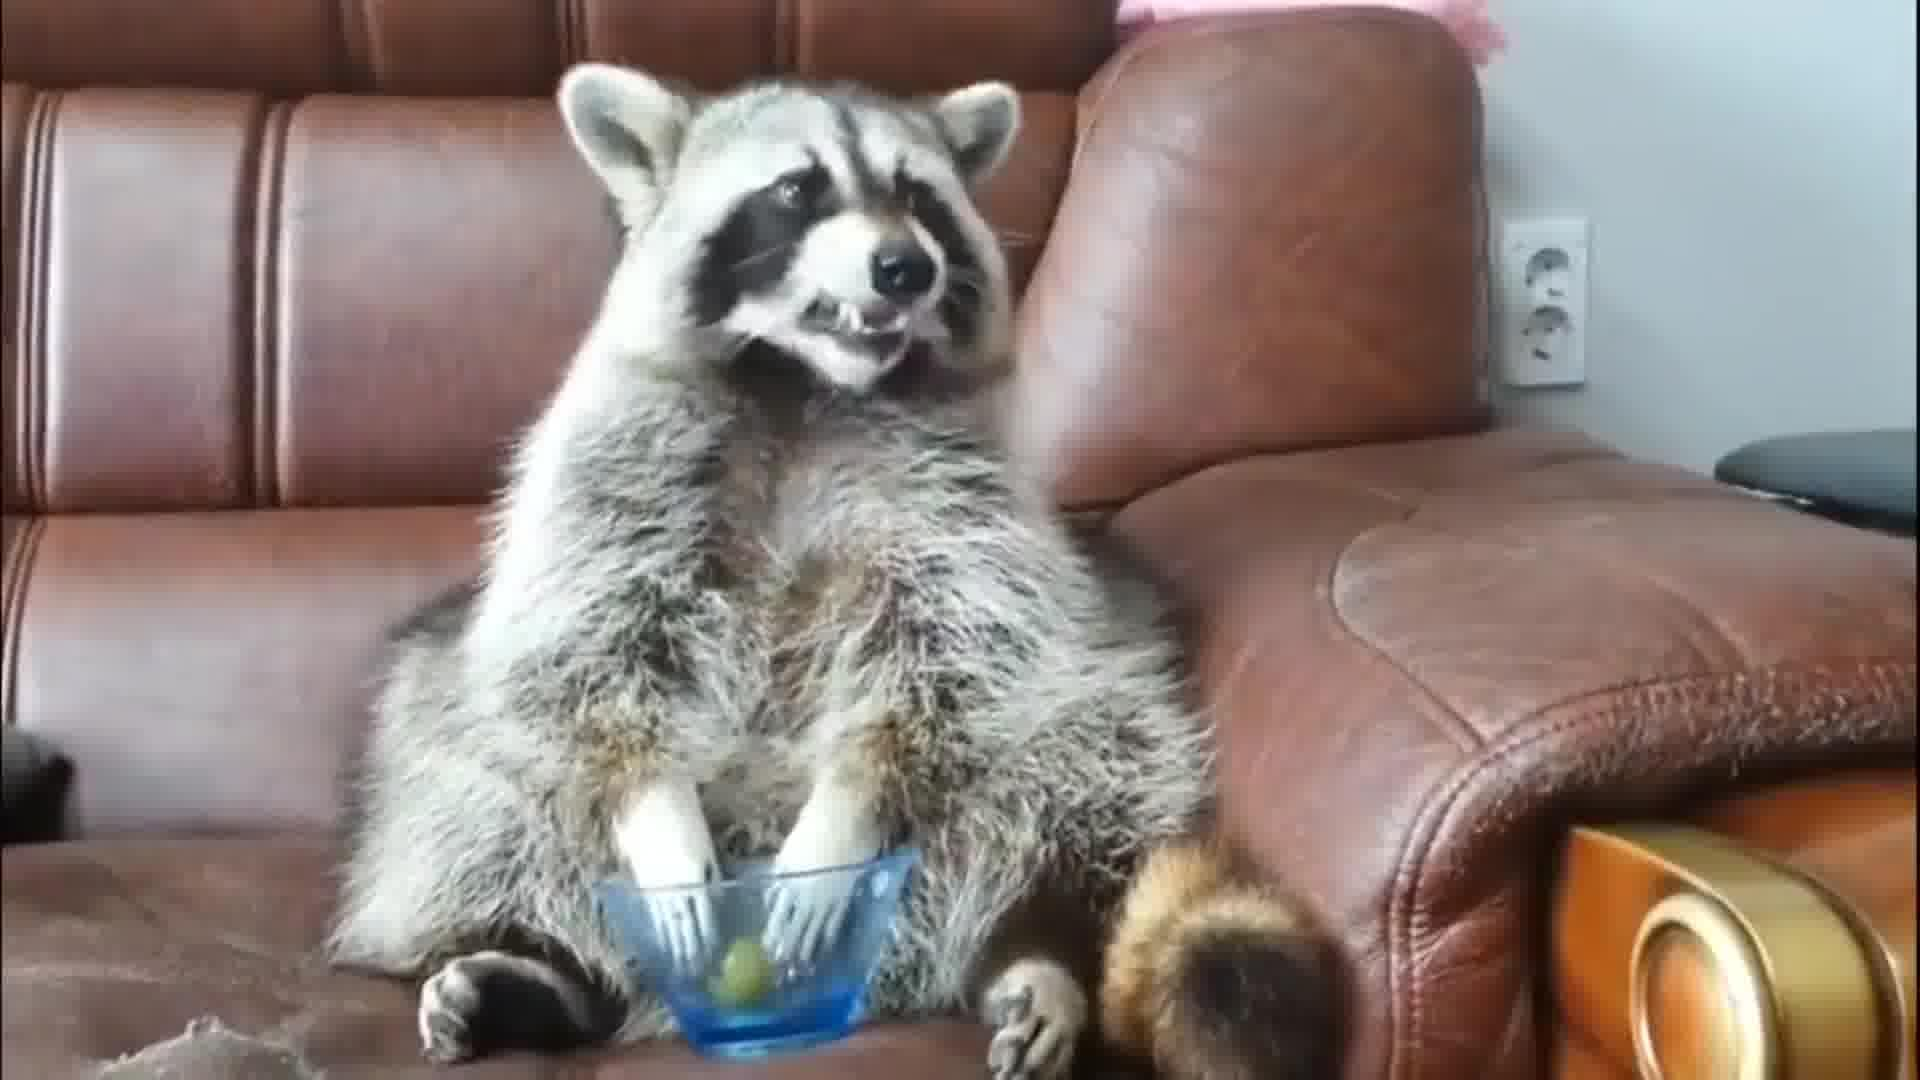raccoon: (335, 61, 1360, 1080)
